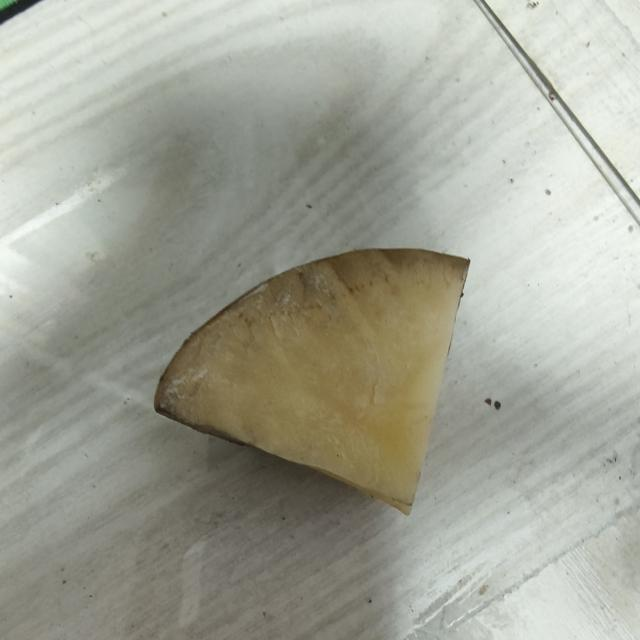-Kitchen waste - potato-: (152, 237, 472, 516)
